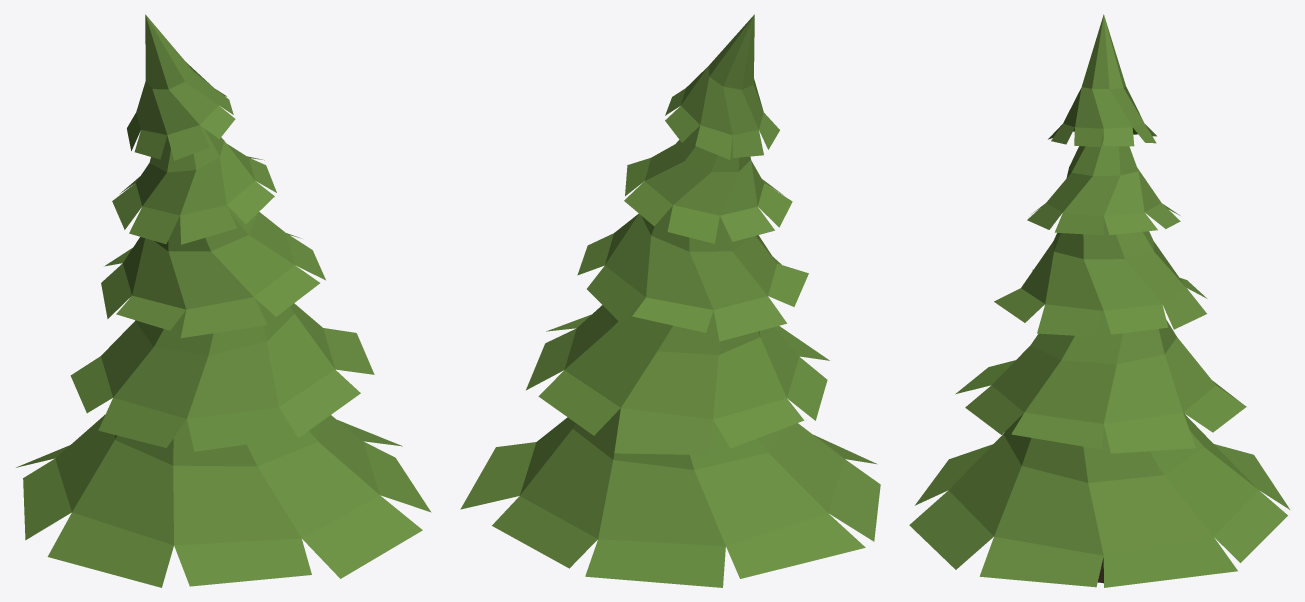
File: spruce_small_2.obj
3 views of the same model, side by side, from view 1: azimuth 30°, elevation 25°; view 2: azimuth 150°, elevation 25°; view 3: azimuth 270°, elevation 25° (orthographic). The views are drawn at different scales.
Visible parts, largest first — view 1: spruce_small_2_Cylinder.004; view 2: spruce_small_2_Cylinder.004; view 3: spruce_small_2_Cylinder.004.
Boxes of the visible parts, box(x1,y1,x2,y2) form: spruce_small_2_Cylinder.004: box(16, 14, 431, 587); spruce_small_2_Cylinder.004: box(460, 14, 880, 587); spruce_small_2_Cylinder.004: box(909, 14, 1289, 587).
Size of the model in its own units: 2.74 by 3.99 by 2.62.
Materials: 1 (1 with a texture image).
